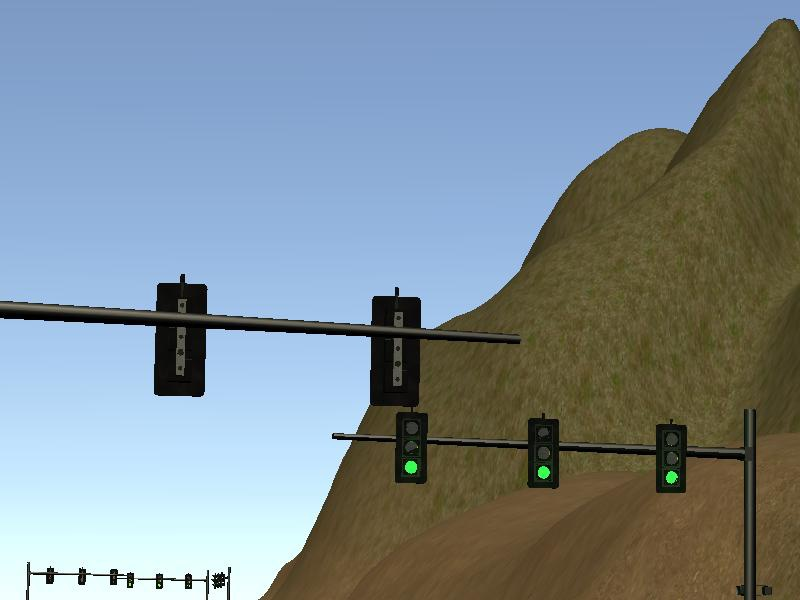Green: (656, 425, 687, 493), (396, 412, 426, 482), (530, 417, 558, 487), (126, 572, 136, 588), (156, 574, 163, 590), (185, 575, 192, 589)
